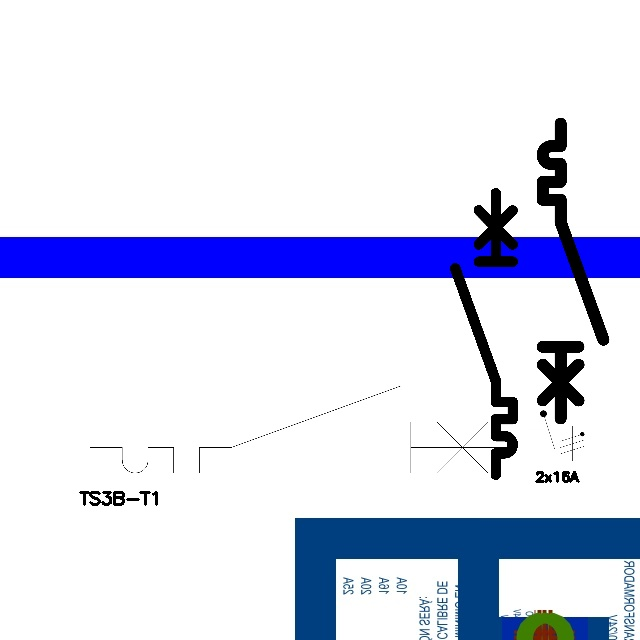interruptor_termomagnetico: (79, 375, 525, 484), (535, 116, 611, 426), (448, 186, 520, 482)
